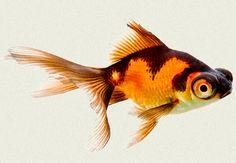goldfish: (37, 30, 236, 144)
